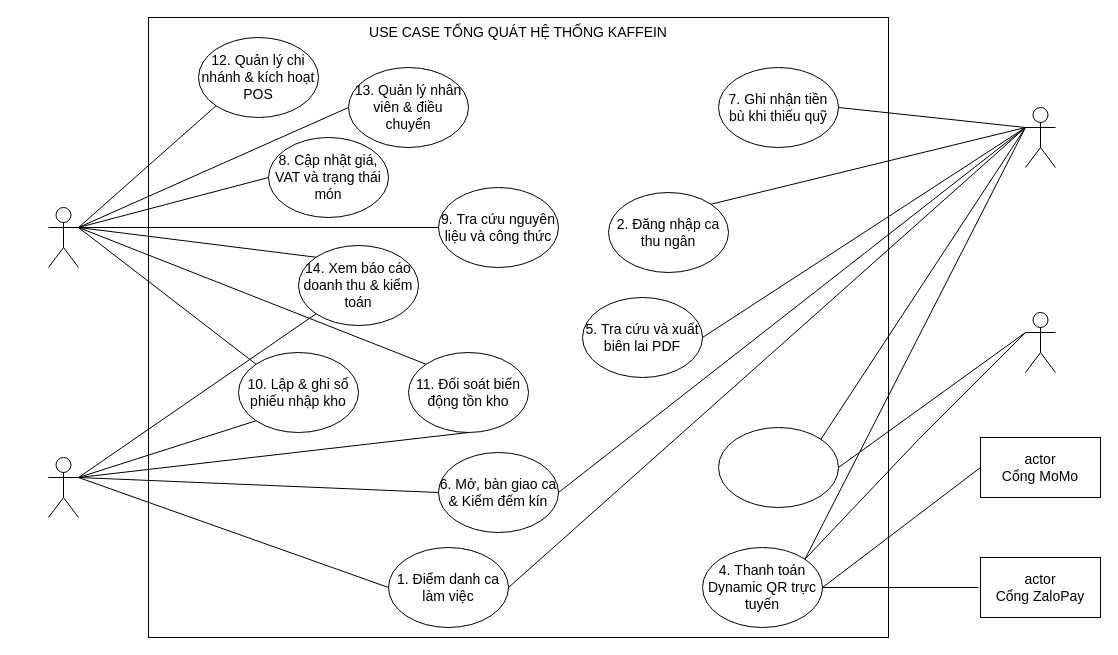
This 1118x655 diagram has some shape labels left out. The shapes that lost their labels are listed below. From the top down, each one's box as (x1, y1, x2, y2) in pixels, then its label:
(1024, 106, 1056, 168): Employee
(48, 206, 78, 268): Owner
(1024, 312, 1056, 372): Customer
(48, 456, 78, 518): Store Manager
(718, 426, 838, 508): 3. Bán hàng tiền mặt ngoại tuyến
